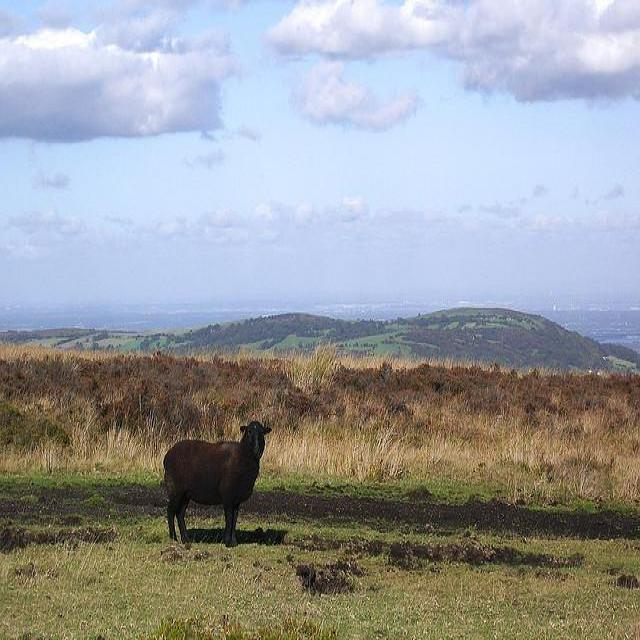Sheep: (163, 419, 273, 548)
